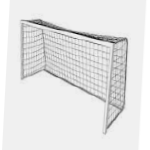goals: (18, 16, 130, 138)
